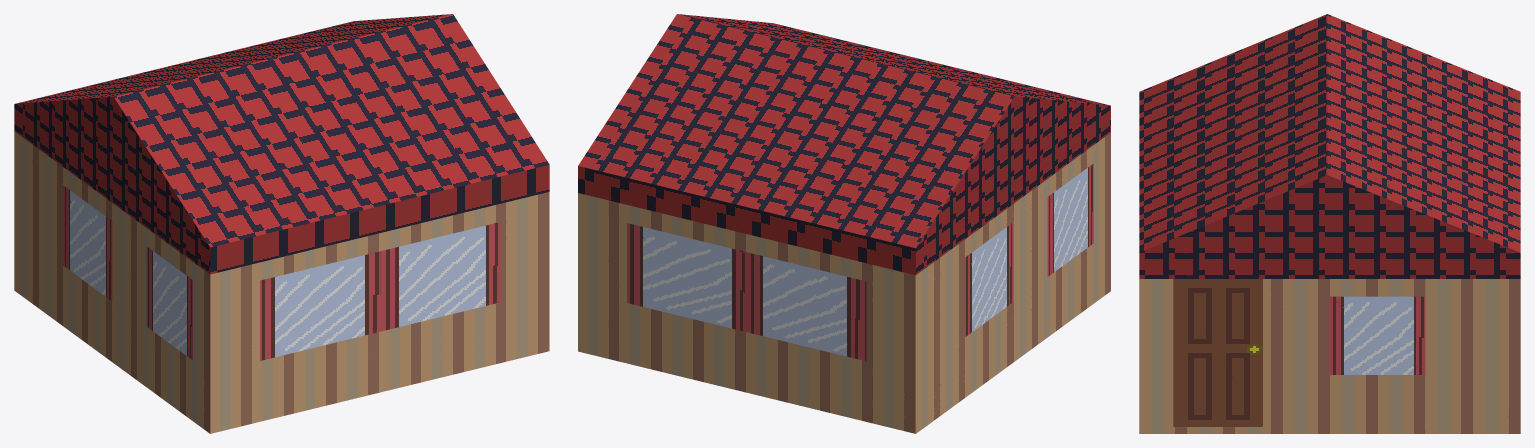
The model's file is Hut.obj.
3 views of the same model, side by side, from view 1: azimuth 30°, elevation 25°; view 2: azimuth 150°, elevation 25°; view 3: azimuth 270°, elevation 25° (orthographic). The views are drawn at different scales.
Visible parts, largest first — view 1: Cube.003_Cube.003_Roof, Cube.003_Cube.003_Wall, Cube.003_Cube.003_Window; view 2: Cube.003_Cube.003_Roof, Cube.003_Cube.003_Wall, Cube.003_Cube.003_Window; view 3: Cube.003_Cube.003_Roof, Cube.003_Cube.003_Wall, Cube.003_Cube.003_Door, Cube.003_Cube.003_Window.
Part boxes in pixels (x1,y1,x2,y2): Cube.003_Cube.003_Roof: [14, 14, 549, 274]; Cube.003_Cube.003_Wall: [14, 131, 549, 433]; Cube.003_Cube.003_Window: [63, 185, 500, 360]; Cube.003_Cube.003_Roof: [578, 14, 1110, 275]; Cube.003_Cube.003_Wall: [578, 133, 1110, 433]; Cube.003_Cube.003_Window: [627, 163, 1093, 361]; Cube.003_Cube.003_Roof: [1139, 14, 1520, 278]; Cube.003_Cube.003_Wall: [1139, 279, 1520, 433]; Cube.003_Cube.003_Door: [1173, 279, 1262, 426]; Cube.003_Cube.003_Window: [1330, 296, 1425, 374].
Bounding box in the file's own units: 4 × 3 × 4.
